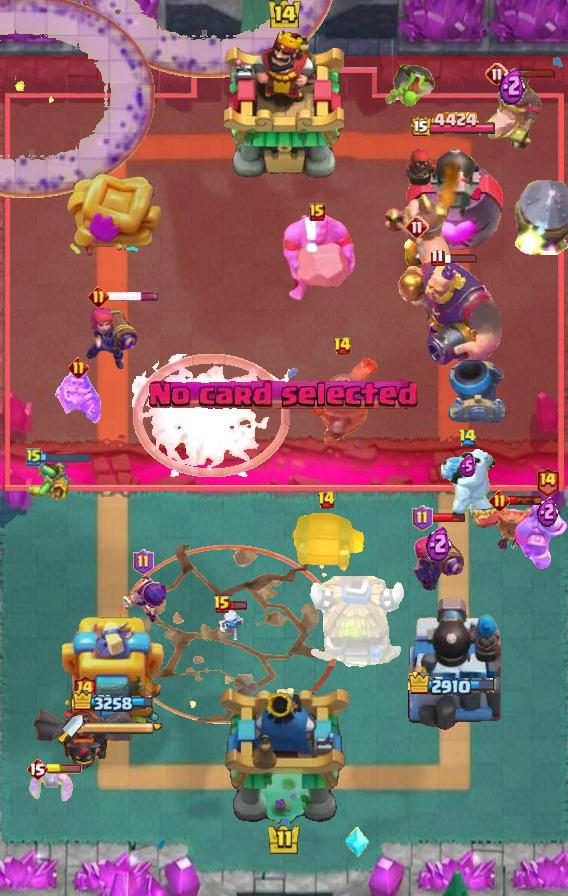archer-evolution: (32, 706, 136, 770)
archer-queen: (277, 211, 357, 305)
bar: (62, 611, 166, 731)
bar-level: (383, 62, 437, 110)
barbarian: (26, 765, 78, 803)
barbarian-evolution: (132, 355, 290, 478)
bomber: (403, 234, 431, 272)
dark-prince: (295, 358, 389, 444)
electro-spirit: (499, 65, 525, 105), (426, 524, 451, 562), (538, 495, 559, 527), (460, 455, 477, 477)
elixir-golem-small: (514, 499, 568, 571)
emote: (40, 451, 91, 463), (107, 290, 160, 301), (506, 68, 556, 79), (430, 511, 466, 525), (442, 252, 478, 264), (508, 495, 543, 506), (46, 764, 82, 774), (228, 600, 248, 611)
firecracker-evolution: (55, 367, 101, 425)
freeze: (382, 194, 456, 280), (481, 73, 543, 153)
giant-snowball: (24, 459, 72, 501)
goblin-ball: (119, 571, 167, 625)
golden-knight: (470, 503, 552, 553)
guard: (116, 544, 340, 723)
heal-spirit: (216, 601, 250, 645)
king-tower: (216, 684, 352, 826), (224, 29, 344, 181)
king-tower-bar: (83, 722, 155, 736)
lightning: (394, 254, 505, 366)
mega-minion: (410, 518, 466, 594), (86, 300, 142, 372)
musketeer: (448, 359, 508, 423)
pad_2: (344, 826, 370, 858)
prince: (305, 576, 407, 672)
rage: (435, 449, 499, 525)
rocket: (0, 0, 156, 198), (80, 0, 336, 78)
selected: (408, 672, 498, 700), (411, 111, 498, 139), (72, 689, 156, 714)
text: (536, 466, 561, 497), (71, 674, 96, 705), (485, 62, 509, 86), (405, 215, 429, 239), (412, 505, 433, 531), (133, 549, 154, 575), (26, 757, 48, 781), (87, 285, 108, 307), (67, 357, 89, 378), (490, 490, 511, 511), (333, 336, 352, 356), (317, 490, 336, 510), (459, 428, 478, 447), (213, 595, 231, 615), (26, 447, 42, 467), (309, 203, 325, 221), (431, 248, 446, 267)
the-log: (286, 513, 366, 573)
tower-bar: (405, 595, 501, 731), (404, 138, 505, 256)
x-bow: (516, 177, 568, 255)
